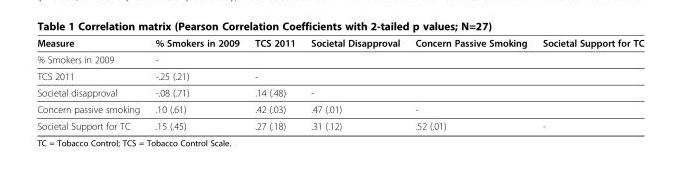table: (36, 36, 643, 131)
table column: (406, 36, 534, 131), (36, 36, 146, 131), (534, 36, 643, 131), (302, 36, 406, 131), (146, 36, 246, 131), (246, 36, 302, 131)
table column header: (36, 36, 643, 50)
table row: (36, 50, 643, 67), (36, 67, 643, 84), (36, 100, 643, 117), (36, 84, 643, 100), (36, 36, 643, 50), (36, 117, 643, 131)
